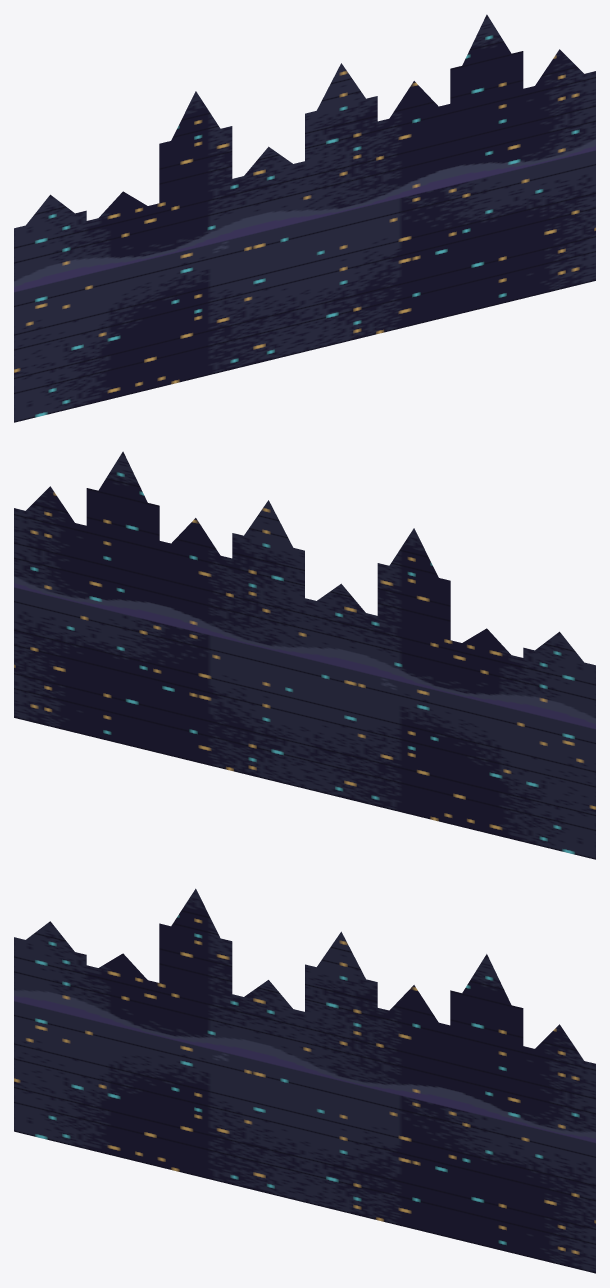
The model's file is cysky.needle__low.glb.
3 renders of one model, top to bottom at view 1: azimuth 30°, elevation 25°; view 2: azimuth 150°, elevation 25°; view 3: azimuth 330°, elevation 25°, orthographic.
Visible parts, largest first — view 1: kit_card_skyline; view 2: kit_card_skyline; view 3: kit_card_skyline.
Boxes of the visible parts, <box> form: kit_card_skyline: <box>14,14,595,422</box>; kit_card_skyline: <box>14,451,595,859</box>; kit_card_skyline: <box>14,888,595,1273</box>.
Bounding box in the file's own units: 56 × 26.97 × 0.
Materials: 1 (1 with a texture image).
